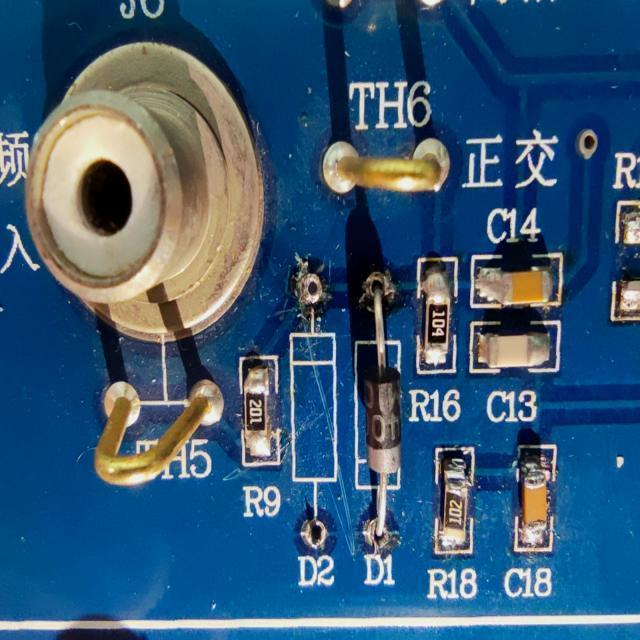Missing component: (282, 245, 346, 593), (609, 145, 640, 338)
